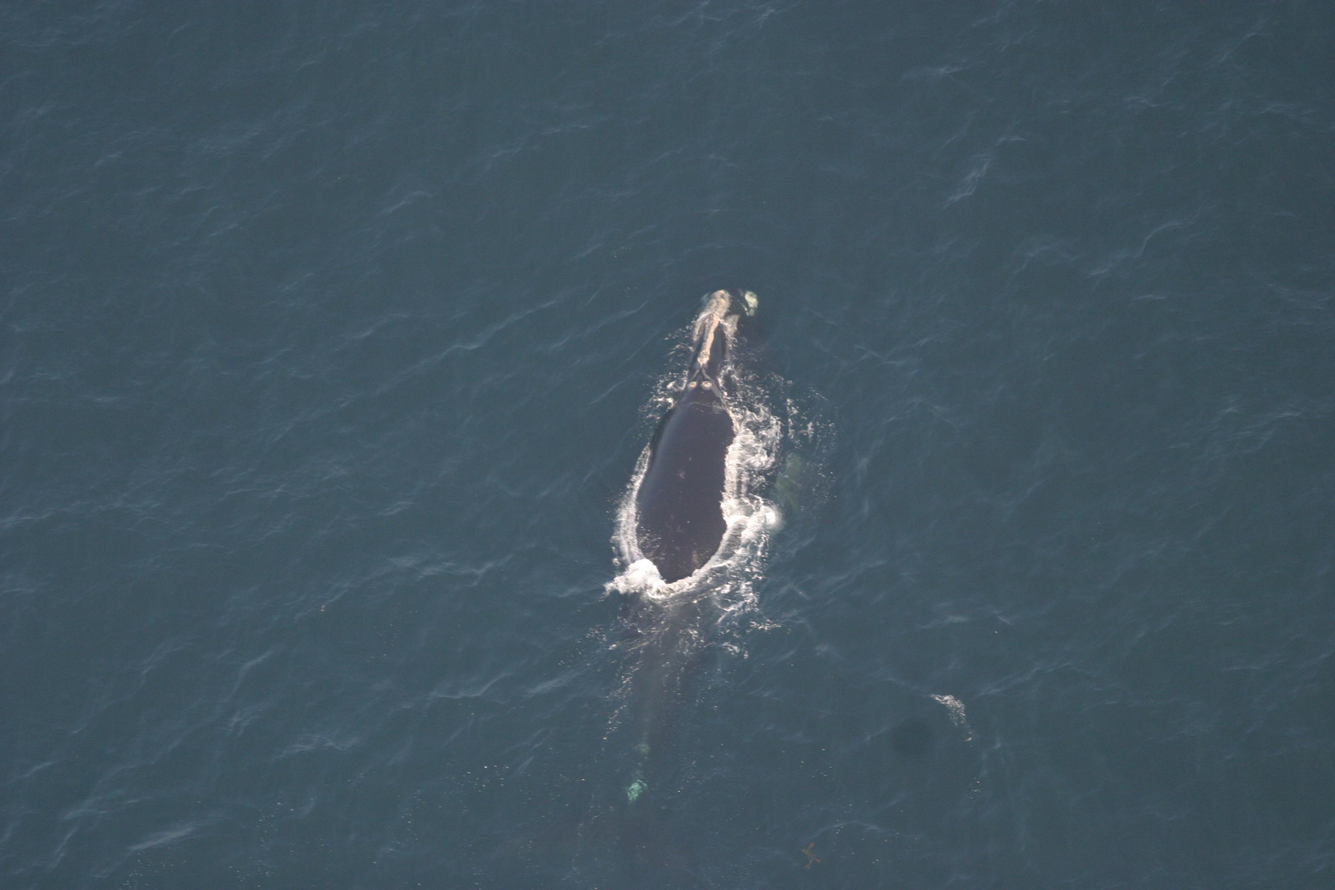whale: (588, 281, 839, 842)
